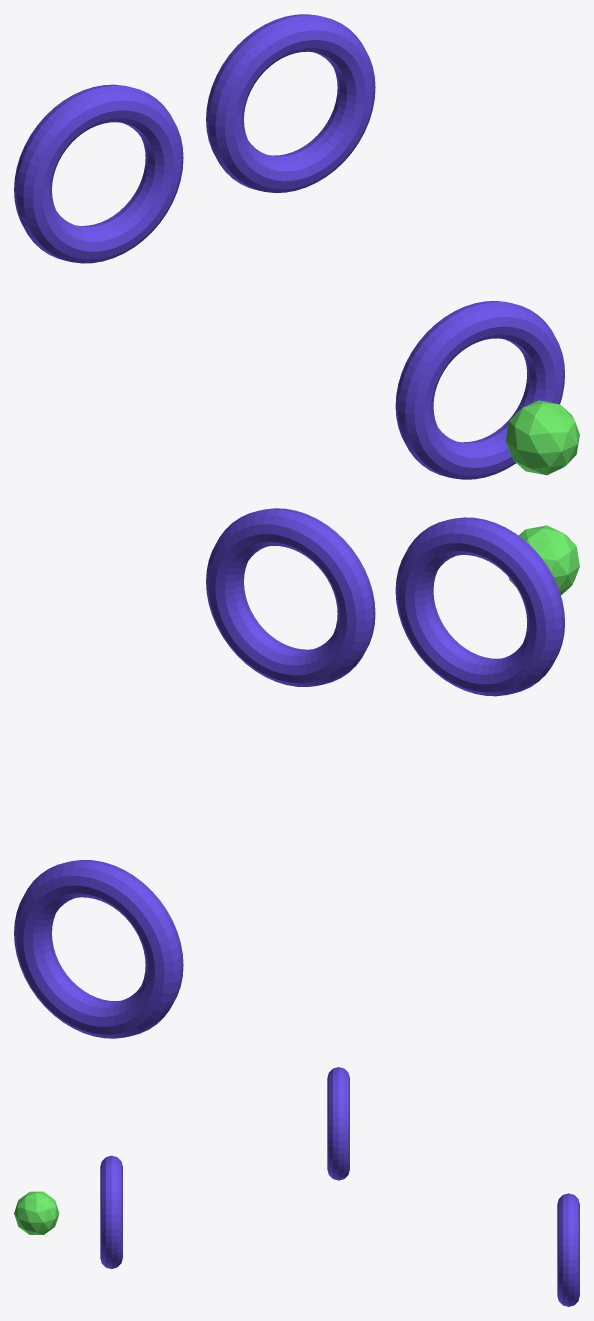
Rendered from Animation.glb.
3 views of the same model, one above another, from view 1: azimuth 30°, elevation 25°; view 2: azimuth 150°, elevation 25°; view 3: azimuth 270°, elevation 25° (orthographic). The views are drawn at different scales.
Parts seen in each view (by area): view 1: Torus.002, Torus.001, Torus, Icosphere; view 2: Torus.001, Torus, Torus.002, Icosphere; view 3: Torus, Torus.001, Torus.002, Icosphere.
Part boxes in pixels (x1=…): Torus.002: x1=14, y1=84, x2=183, y2=263; Torus.001: x1=206, y1=14, x2=375, y2=192; Torus: x1=395, y1=301, x2=564, y2=479; Icosphere: x1=505, y1=400, x2=579, y2=475; Torus.001: x1=206, y1=508, x2=375, y2=686; Torus: x1=395, y1=517, x2=564, y2=696; Torus.002: x1=14, y1=860, x2=183, y2=1038; Icosphere: x1=508, y1=525, x2=579, y2=594; Torus: x1=100, y1=1155, x2=122, y2=1268; Torus.001: x1=327, y1=1067, x2=349, y2=1180; Torus.002: x1=557, y1=1193, x2=579, y2=1306; Icosphere: x1=14, y1=1191, x2=59, y2=1234.
Bounding box in the file's own units: 5 × 11.13 × 24.88.
